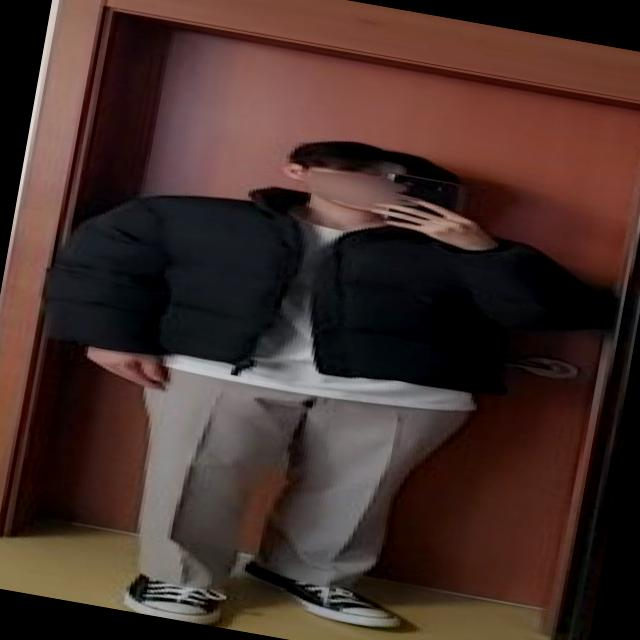padding: (47, 147, 617, 438)
slacks: (108, 356, 471, 628)
